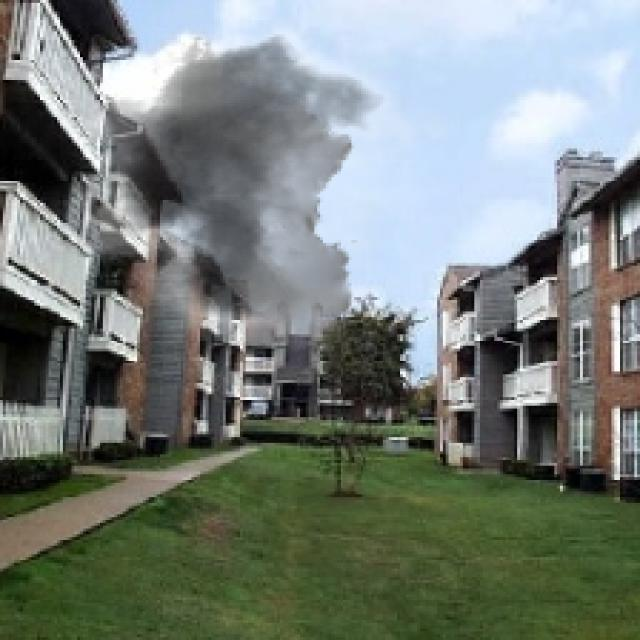Smoke: (48, 6, 463, 352)
